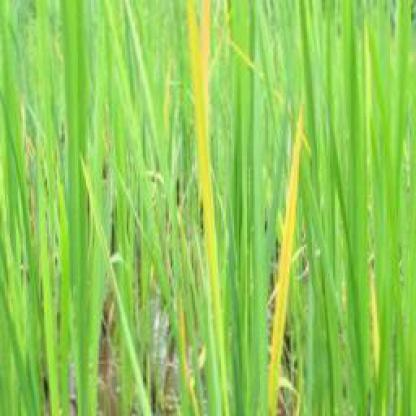Tungro: (188, 6, 228, 412), (265, 112, 306, 413)
